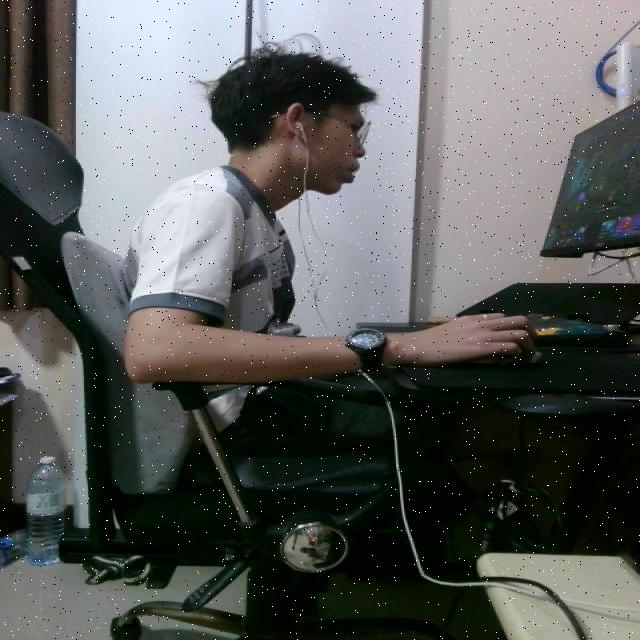Bad: (117, 33, 417, 532)
